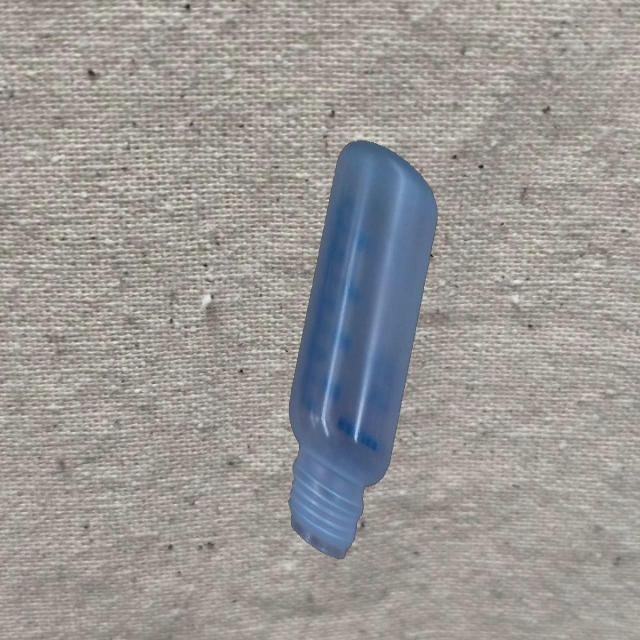bottle: (288, 140, 436, 561)
